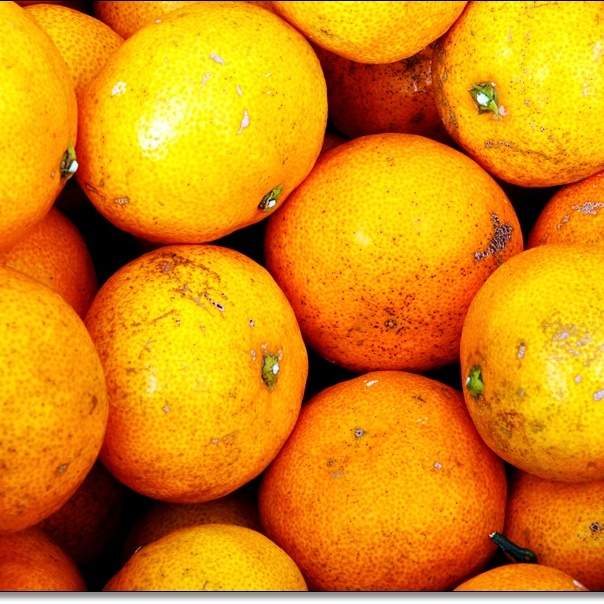mandarin: (263, 132, 526, 371), (73, 9, 330, 249), (83, 244, 306, 508), (259, 372, 510, 591), (460, 241, 604, 483), (431, 1, 604, 192), (1, 272, 108, 532), (1, 1, 77, 254), (96, 525, 310, 589), (267, 1, 468, 66), (505, 472, 604, 590), (320, 48, 443, 138), (1, 528, 93, 590), (528, 177, 604, 252)
